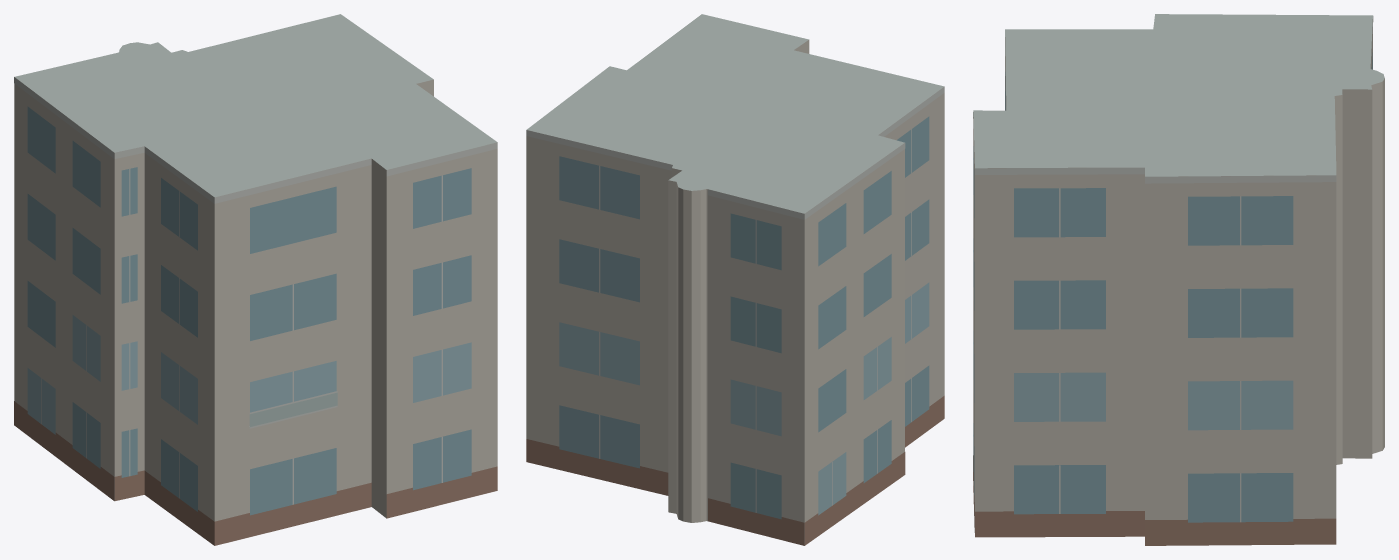
Rendered from survey-upis-32655838.glb.
3 renders of one model, left to right at view 1: azimuth 30°, elevation 25°; view 2: azimuth 150°, elevation 25°; view 3: azimuth 270°, elevation 25°, orthographic. The views are drawn at different scales.
Parts seen in each view (by area): view 1: survey-upis-32655838.tmp; view 2: survey-upis-32655838.tmp; view 3: survey-upis-32655838.tmp.
Part boxes in pixels (<box>): survey-upis-32655838.tmp: <box>14,14,497,545</box>; survey-upis-32655838.tmp: <box>526,14,944,545</box>; survey-upis-32655838.tmp: <box>973,14,1384,545</box>.
Bounding box in the file's own units: 12.49 × 13.2 × 13.34.
